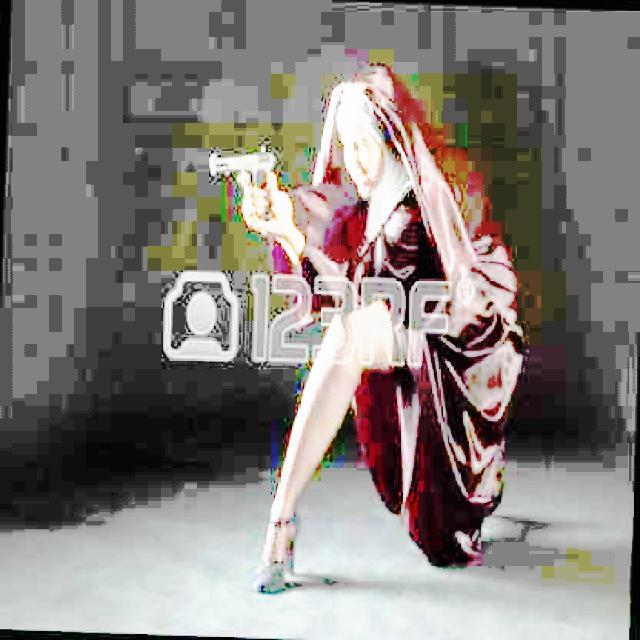Gun: (204, 141, 296, 227)
